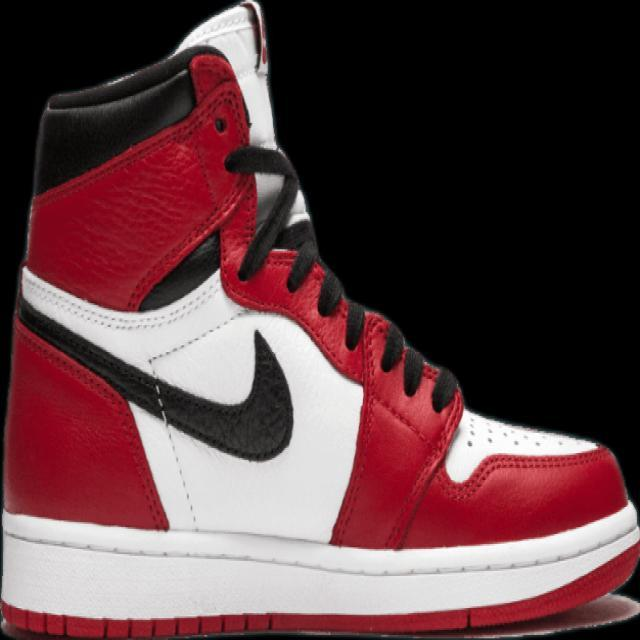J1_InsoleChar: (0, 0, 639, 639)
J1_StitchPattern: (15, 238, 607, 493), (224, 142, 461, 414), (1, 509, 639, 582), (16, 297, 295, 461), (310, 264, 460, 413), (17, 264, 224, 333), (223, 142, 319, 288), (141, 357, 203, 531), (372, 318, 460, 413), (459, 409, 599, 457), (398, 344, 425, 397), (340, 298, 366, 351)
